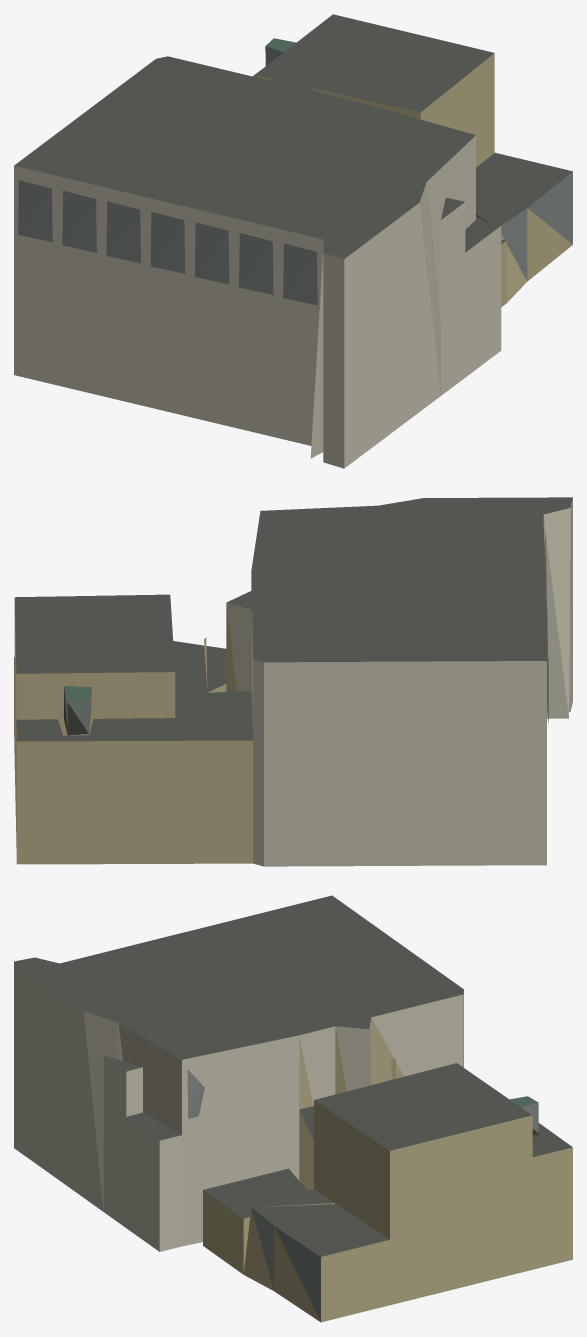
File: lekstraat-synagoge.lod2.glb
3 views of the same model, one above another, from view 1: azimuth 30°, elevation 25°; view 2: azimuth 150°, elevation 25°; view 3: azimuth 270°, elevation 25° (orthographic). The views are drawn at different scales.
Parts seen in each view (by area): view 1: lod2; view 2: lod2; view 3: lod2.
Boxes of the visible parts, x1,y1,x2,y2 form: lod2: (14,14,572,468); lod2: (14,497,572,866); lod2: (14,895,572,1322).
Size of the model in its own units: 41.06 by 14.87 by 40.35.
